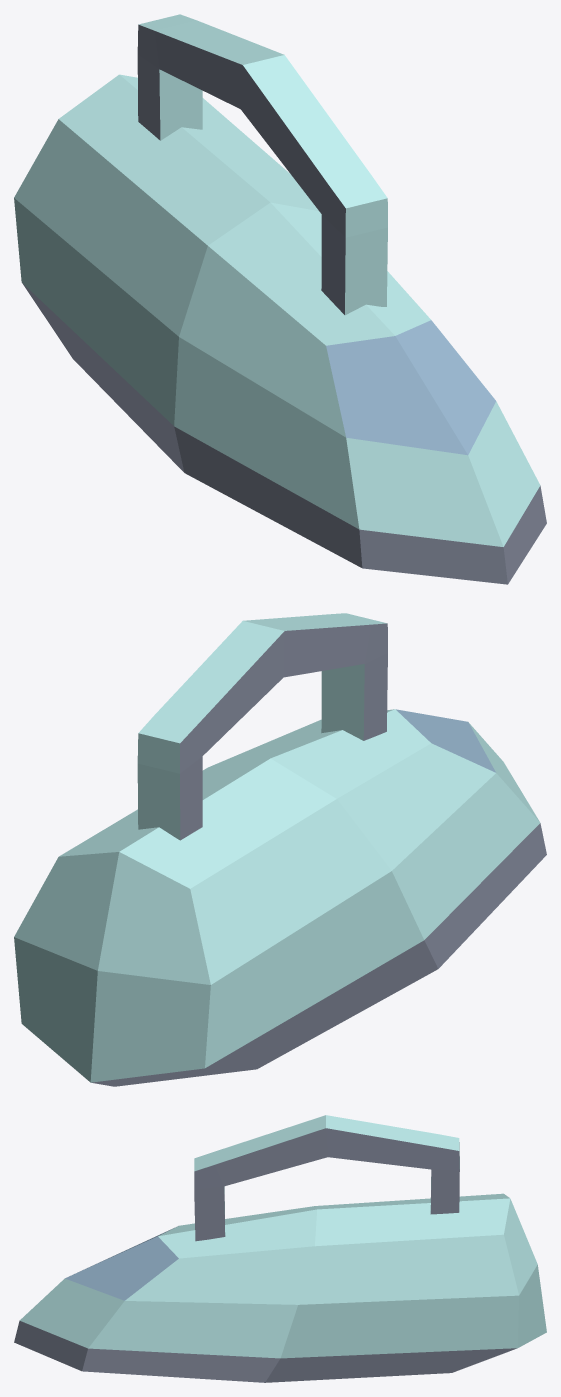
Rendered from Ironer.fbx.
3 renders of one model, top to bottom at view 1: azimuth 30°, elevation 25°; view 2: azimuth 150°, elevation 25°; view 3: azimuth 270°, elevation 25°, orthographic. The views are drawn at different scales.
Visible parts, largest first — view 1: Ironer; view 2: Ironer; view 3: Ironer.
Part boxes in pixels (box(x1,y1,x2,y2)): Ironer: box(14, 14, 546, 584); Ironer: box(14, 613, 546, 1086); Ironer: box(14, 1115, 546, 1382).
Size of the model in its own units: 15.43 by 20.83 by 43.91.
